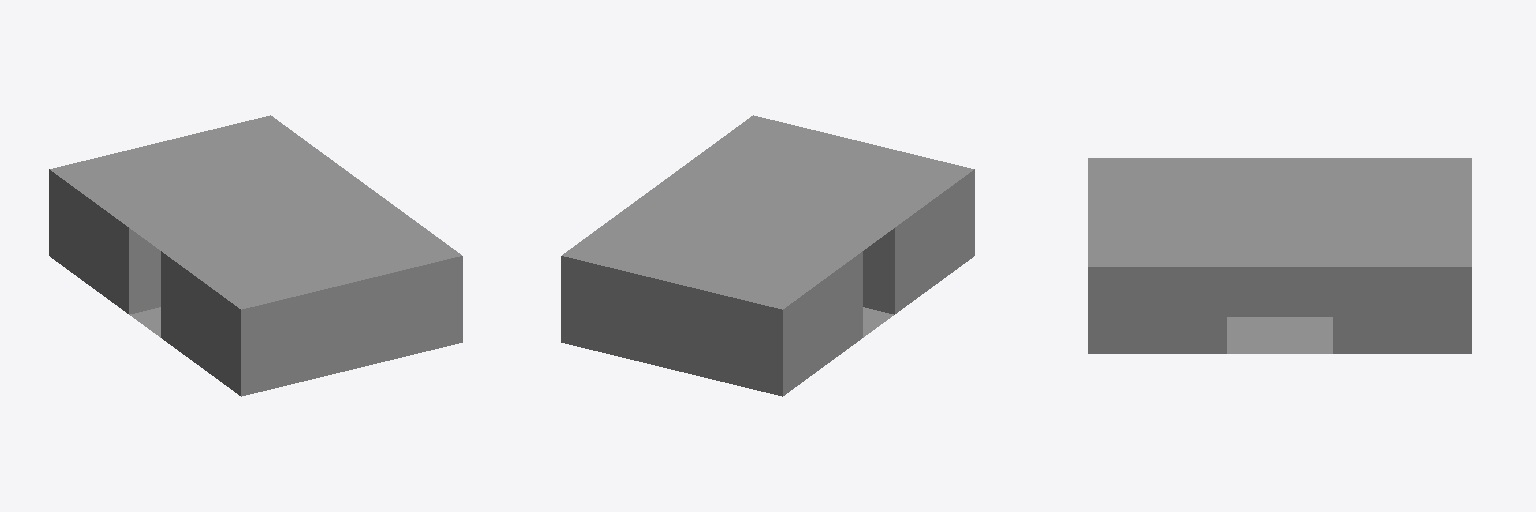
The model's file is RoomTop2.obj.
3 renders of one model, left to right at view 1: azimuth 30°, elevation 25°; view 2: azimuth 150°, elevation 25°; view 3: azimuth 270°, elevation 25°, orthographic.
Parts seen in each view (by area): view 1: Cube.002; view 2: Cube.002; view 3: Cube.002.
Boxes of the visible parts, x1,y1,x2,y2 form: Cube.002: [49, 115, 462, 396]; Cube.002: [561, 115, 974, 396]; Cube.002: [1088, 158, 1471, 353].
Size of the model in its own units: 24 by 9 by 36.